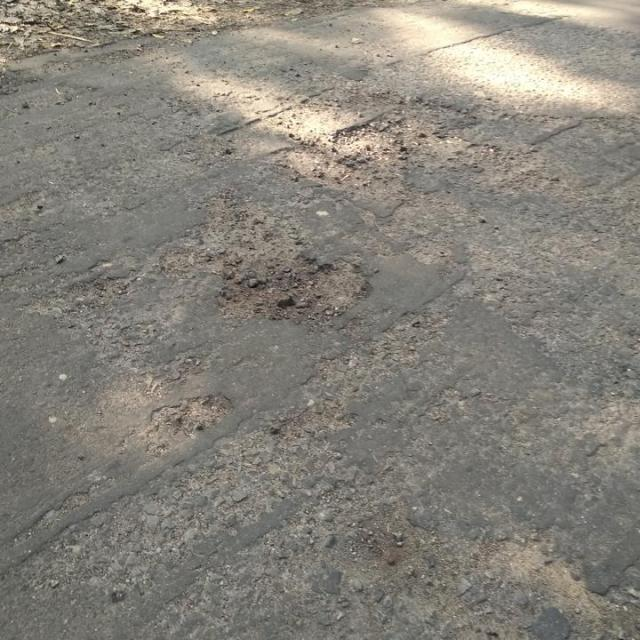pothole: (212, 252, 374, 332), (284, 120, 412, 197), (150, 390, 236, 438)
